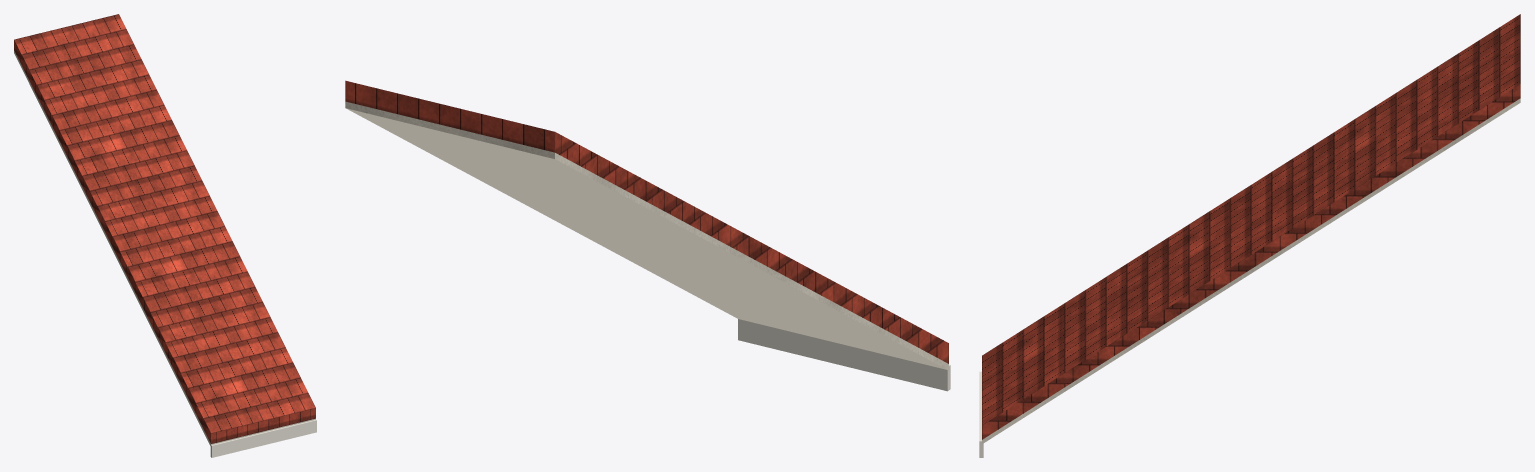
Rendered from roof_back.glb.
3 renders of one model, left to right at view 1: azimuth 30°, elevation 25°; view 2: azimuth 150°, elevation 25°; view 3: azimuth 270°, elevation 25°, orthographic. The views are drawn at different scales.
Visible parts, largest first — view 1: roof_back_roof, roof_back_trim, roof_back_plaster; view 2: roof_back_plaster, roof_back_roof, roof_back_trim; view 3: roof_back_roof, roof_back_plaster.
Part boxes in pixels (bbox=[...]): roof_back_roof: bbox=[14, 14, 315, 443]; roof_back_trim: bbox=[210, 419, 316, 457]; roof_back_plaster: bbox=[14, 50, 315, 446]; roof_back_plaster: bbox=[345, 101, 948, 370]; roof_back_roof: bbox=[345, 80, 948, 363]; roof_back_trim: bbox=[738, 319, 950, 391]; roof_back_roof: bbox=[982, 14, 1520, 439]; roof_back_plaster: bbox=[982, 98, 1520, 443].
Size of the model in its own units: 2 by 4.98 by 6.53.
3 materials, 2 textured.
